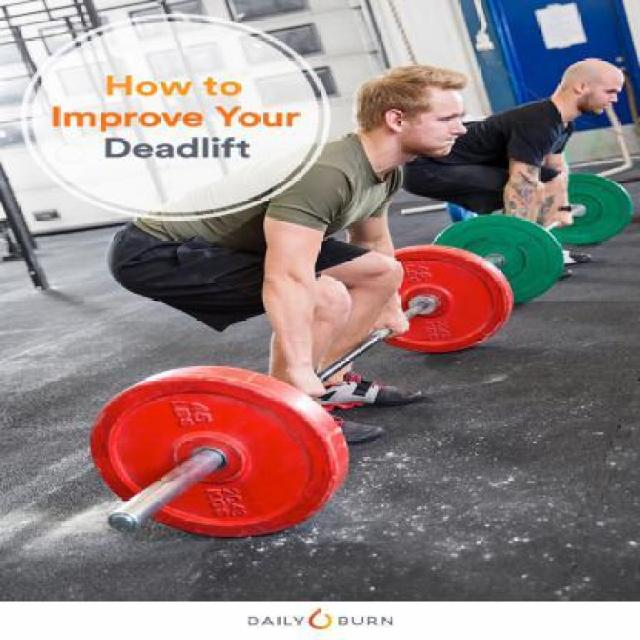barbell: (87, 370, 340, 536)
